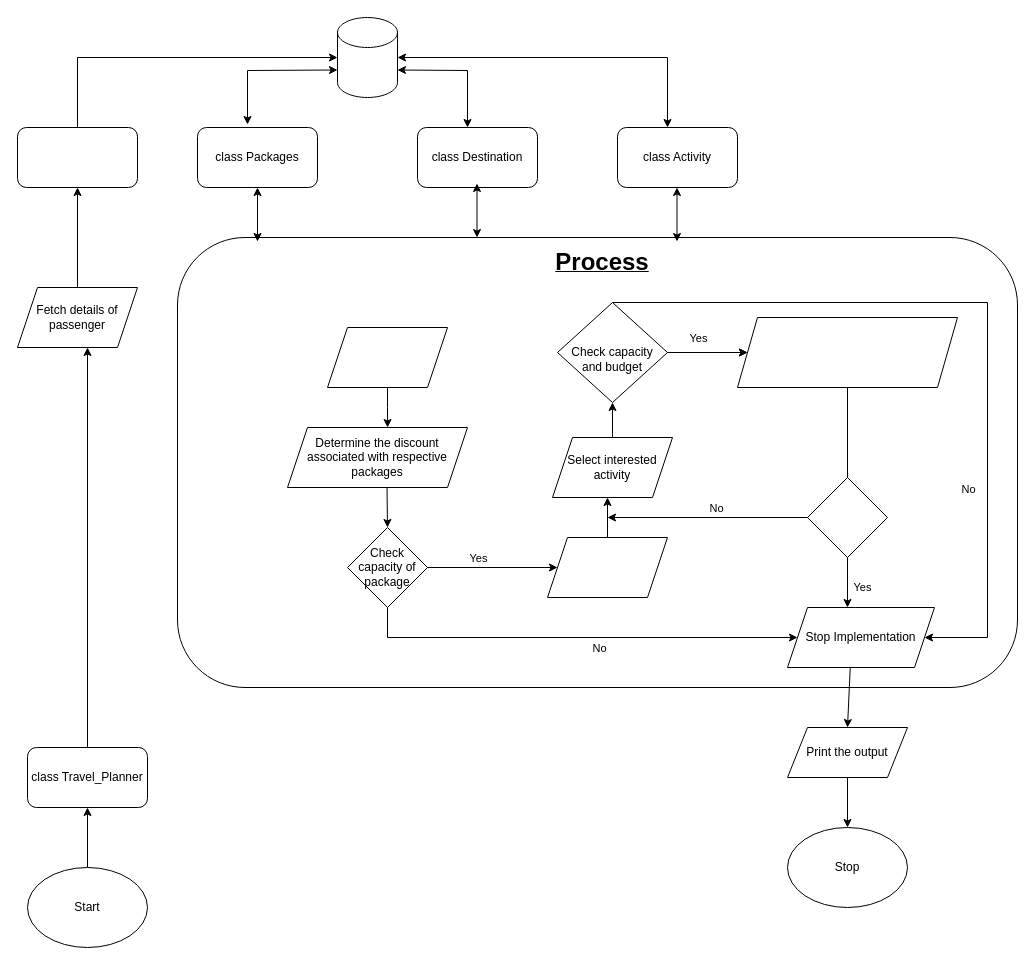
This 1035x965 diagram has some shape labels left out. The shapes that lost their labels are listed below. From the top down, each one's centre as x and y in pixels, then its label:
[367,57]: DB
[77,157]: class Passengers
[387,357]: Determine type of package
[847,352]: Update the budget of passenger and capacity of activity
[847,517]: Want to exit
[607,567]: Update the list of passengers
